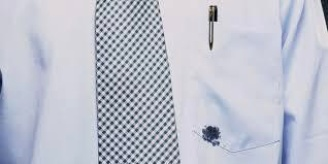ink: (201, 125, 221, 145)
